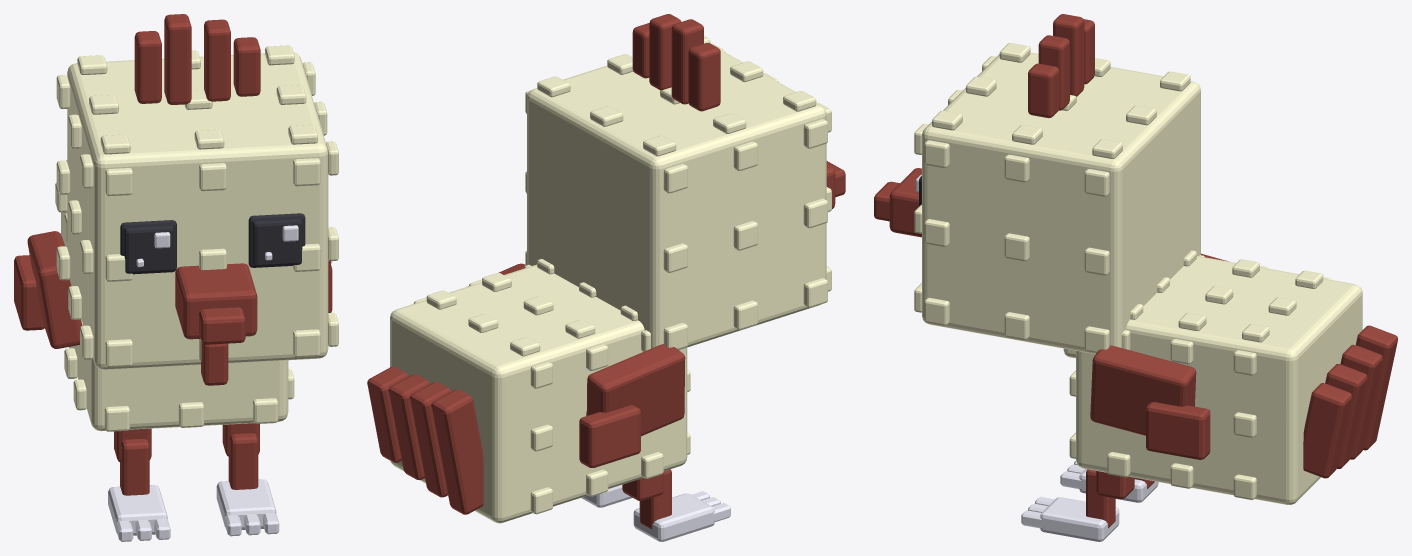
Rendered from ClickyChick.obj.
3 views of the same model, side by side, from view 1: azimuth 30°, elevation 25°; view 2: azimuth 150°, elevation 25°; view 3: azimuth 270°, elevation 25° (orthographic). The views are drawn at different scales.
Parts seen in each view (by area): view 1: ClickyChick; view 2: ClickyChick; view 3: ClickyChick.
Part boxes in pixels (x1=…): ClickyChick: x1=14, y1=14, x2=338, y2=541; ClickyChick: x1=367, y1=14, x2=845, y2=541; ClickyChick: x1=874, y1=14, x2=1397, y2=541.
Bounding box in the file's own units: 1.89 × 2.76 × 2.74.
